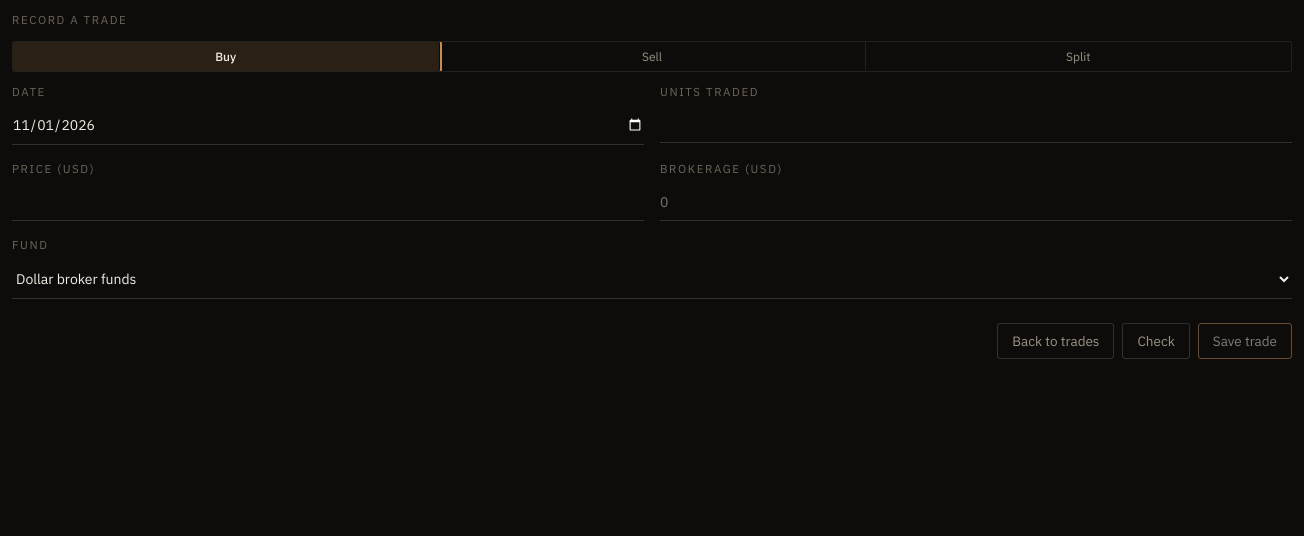
Test: TradeForm: recording a trade › checks a sale with the database and shows what it would do
Click the button "Sell" at [651, 56], box x1=438 y1=42 x2=865 y2=71
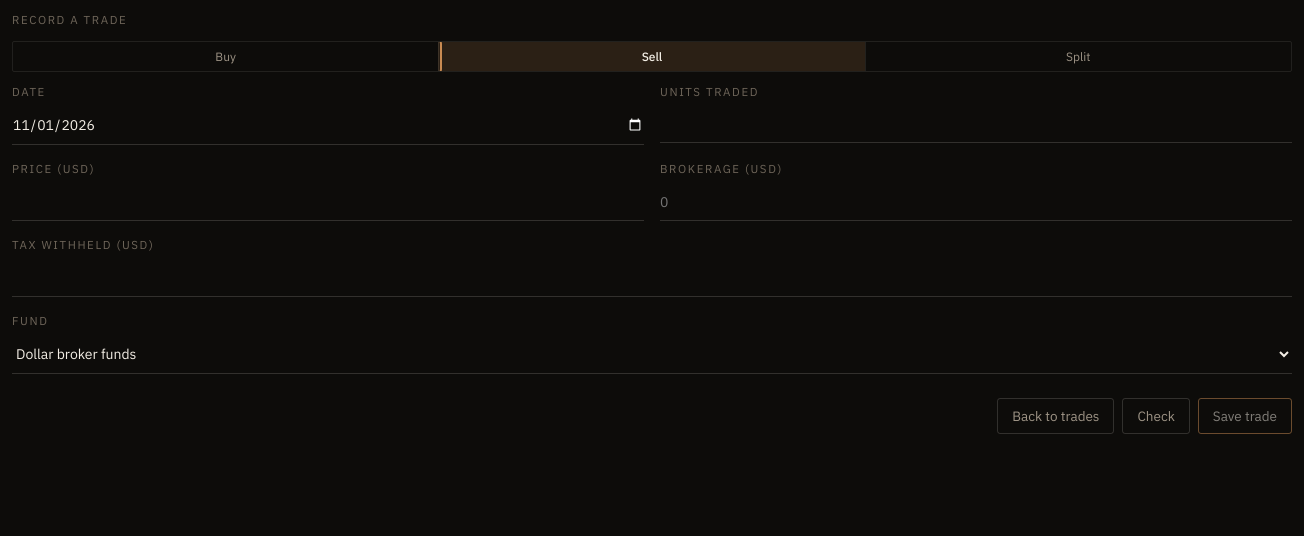
Type "6" into the number field labelled "Units traded" at [976, 125], box x1=660 y1=106 x2=1292 y2=143
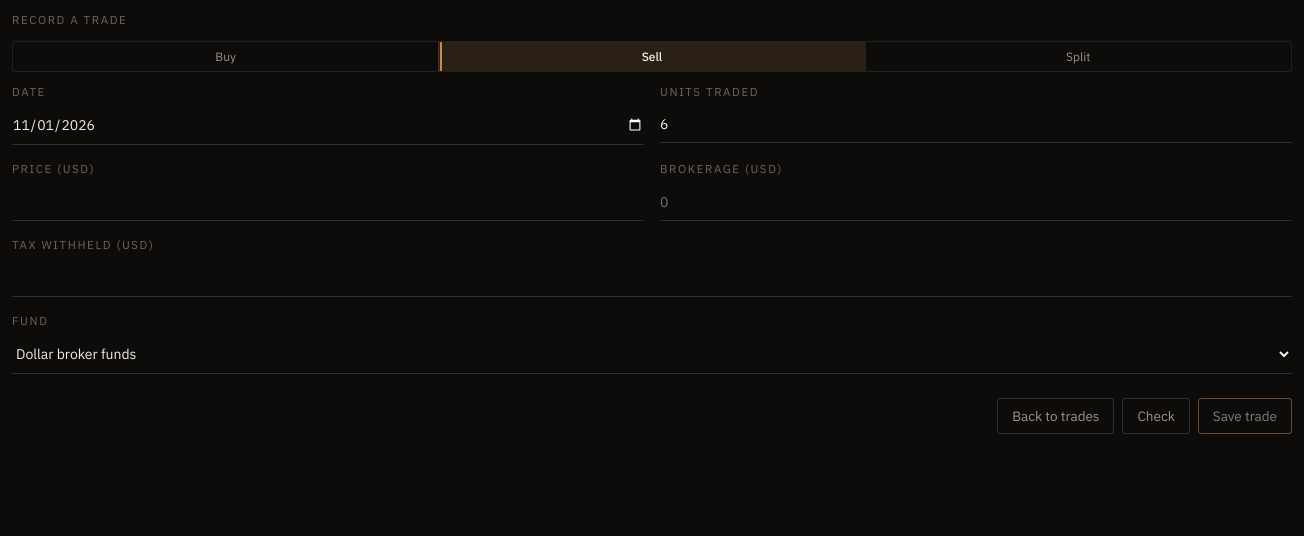
Type "150" into the number field labelled "Price (USD)" at [328, 202], box x1=12 y1=184 x2=644 y2=221
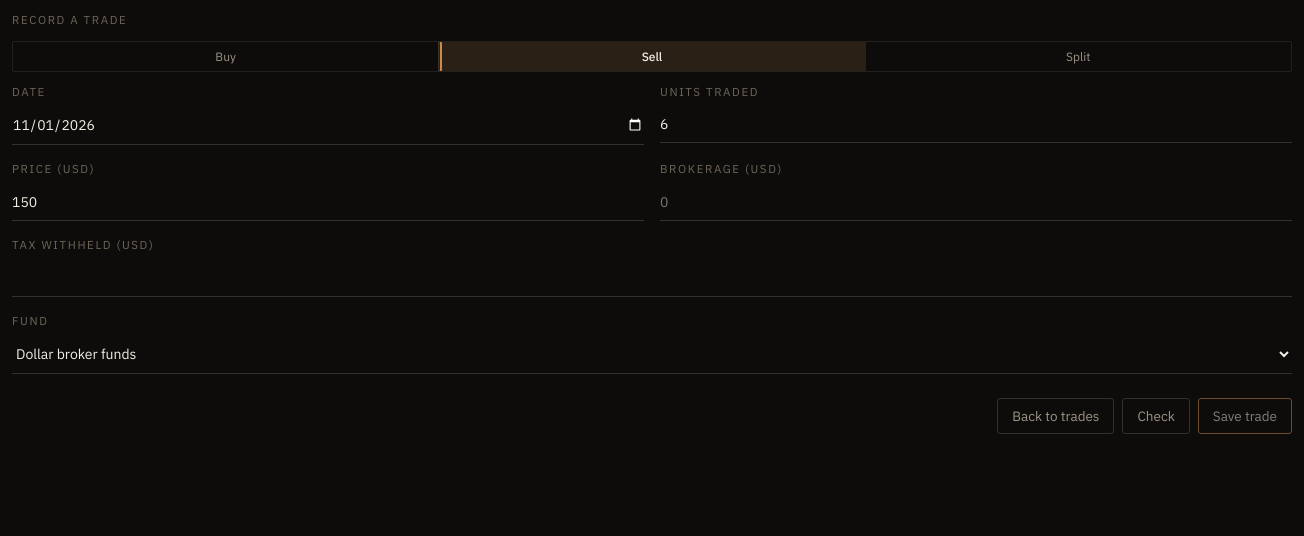
Type "1" into the number field labelled "Brokerage (USD)" at [976, 202], box x1=660 y1=184 x2=1292 y2=221
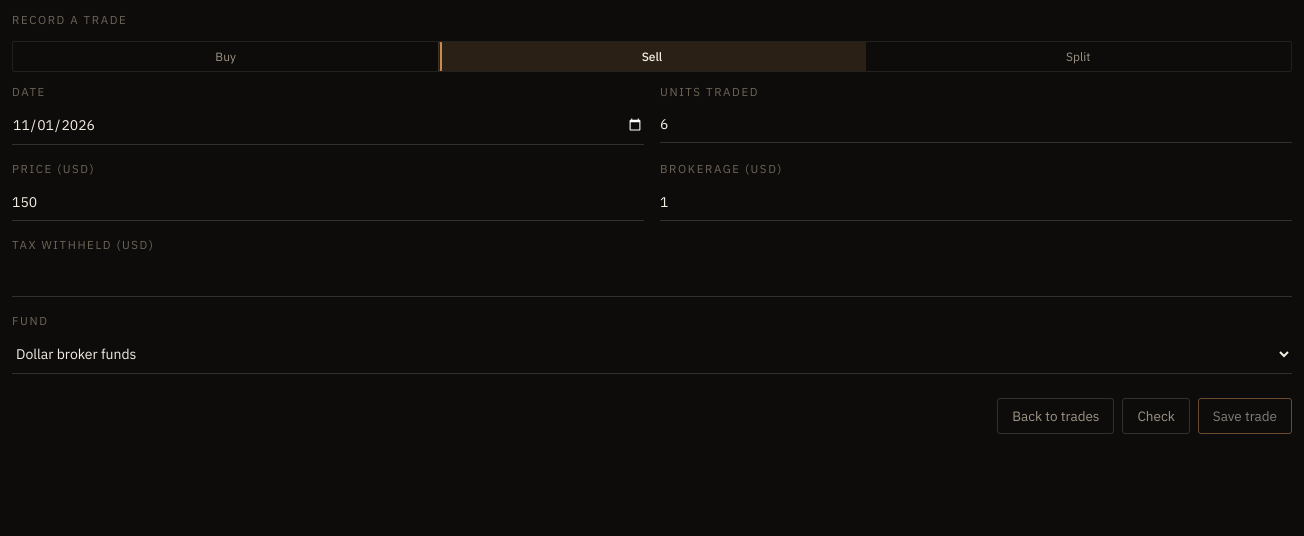
Click the button "Check" at [1156, 416], box x1=1122 y1=398 x2=1190 y2=434
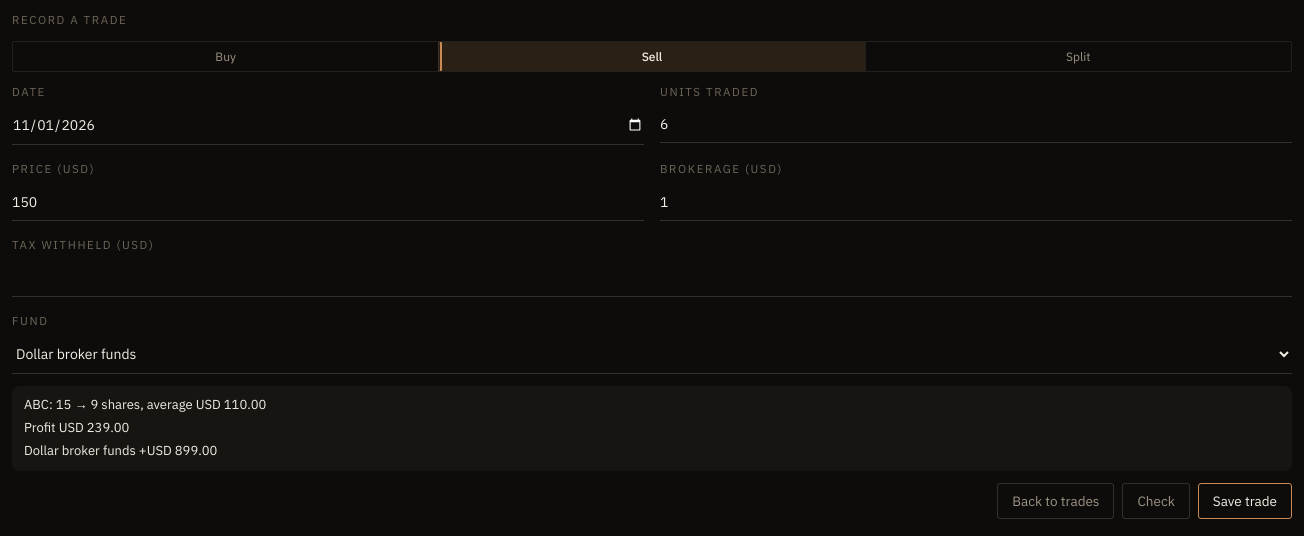
Result: the text "ABC: 15 → 9 shares, average USD 110.00" is shown at x1=24 y1=396 x2=266 y2=413
Result: the text "Profit USD 239.00" is shown at x1=24 y1=419 x2=129 y2=436
Result: the text "Dollar broker funds +USD 899.00" is shown at x1=24 y1=442 x2=217 y2=459
